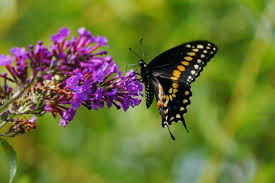butterfly: (136, 39, 221, 144)
flower: (2, 27, 135, 152)
